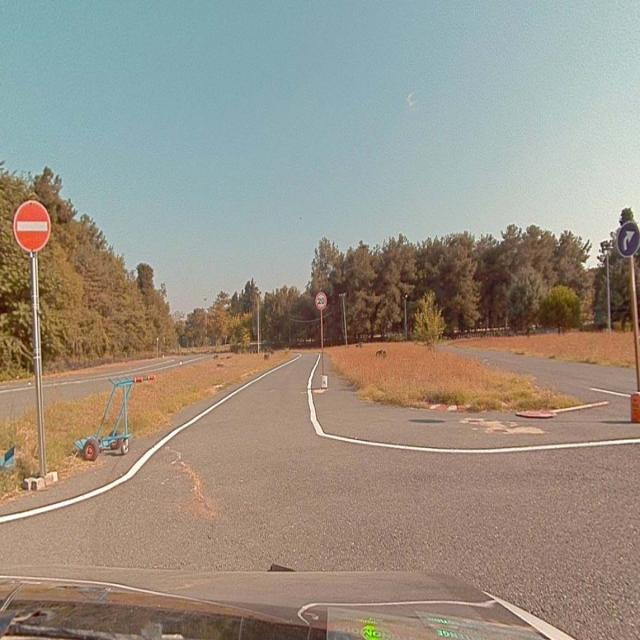20: (316, 292, 326, 308)
girisyok: (13, 200, 50, 248)
sag: (617, 221, 639, 255)
